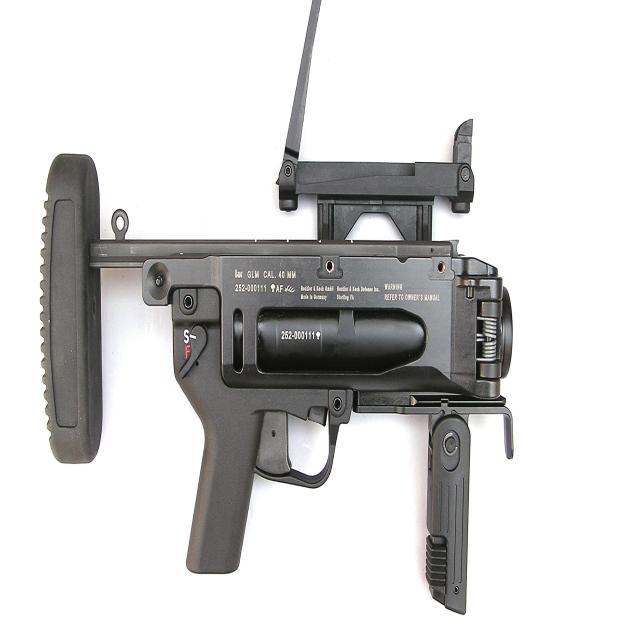Weapon: (41, 120, 513, 613)
